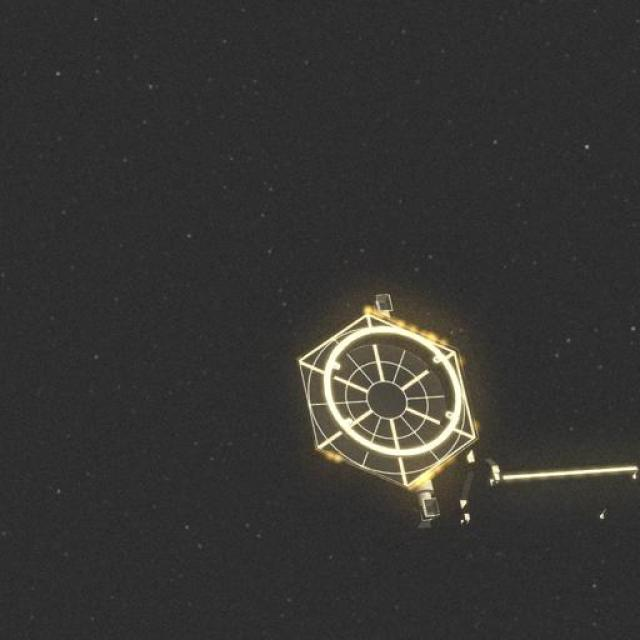earth_observation_sat_1: (261, 274, 510, 542)
